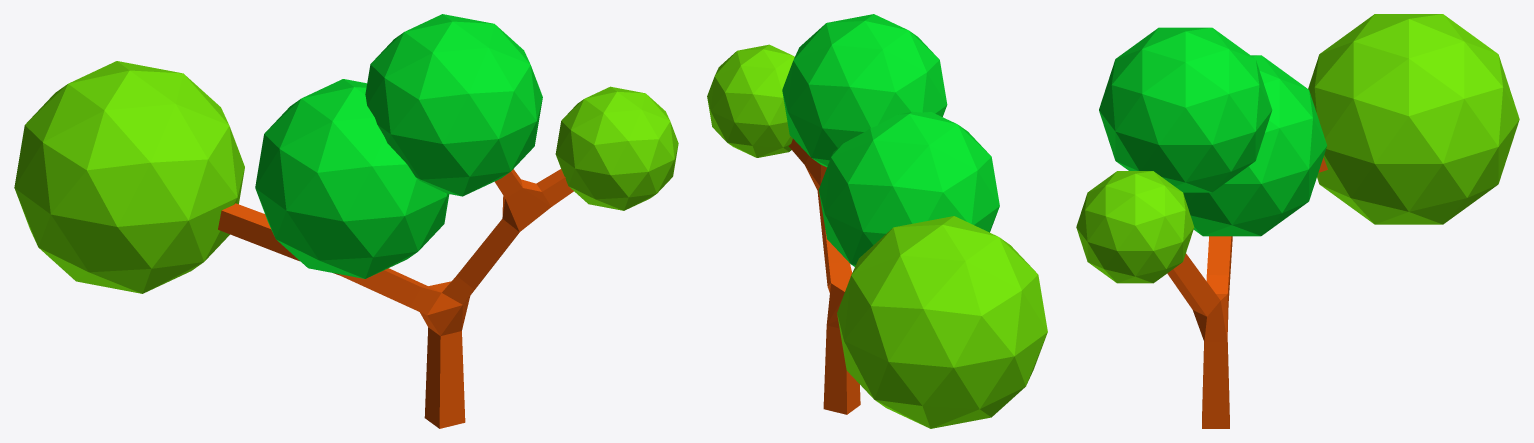
File: drzewko4.fbx
3 renders of one model, left to right at view 1: azimuth 30°, elevation 25°; view 2: azimuth 150°, elevation 25°; view 3: azimuth 270°, elevation 25°, orthographic. The views are drawn at different scales.
Parts seen in each view (by area): view 1: Kula ico.003, Kula ico.002, Kula ico.001, Kostka, Kula ico; view 2: Kula ico.003, Kula ico.002, Kula ico.001, Kula ico, Kostka; view 3: Kula ico.003, Kula ico.001, Kula ico.002, Kula ico, Kostka.
Boxes of the visible parts, bbox=[...] form: Kula ico.003: bbox=[14, 61, 244, 293]; Kula ico.002: bbox=[255, 79, 449, 278]; Kula ico.001: bbox=[365, 14, 542, 196]; Kostka: bbox=[218, 169, 573, 428]; Kula ico: bbox=[555, 86, 678, 210]; Kula ico.003: bbox=[837, 216, 1047, 428]; Kula ico.002: bbox=[819, 111, 999, 266]; Kula ico.001: bbox=[782, 14, 947, 167]; Kula ico: bbox=[707, 44, 794, 157]; Kostka: bbox=[788, 139, 860, 414]; Kula ico.003: bbox=[1308, 14, 1519, 224]; Kula ico.001: bbox=[1099, 27, 1272, 192]; Kula ico.002: bbox=[1183, 55, 1327, 236]; Kula ico: bbox=[1076, 171, 1194, 283]; Kostka: bbox=[1167, 157, 1327, 428].
Bounding box in the file's own units: 1306 × 1050 × 1088.
